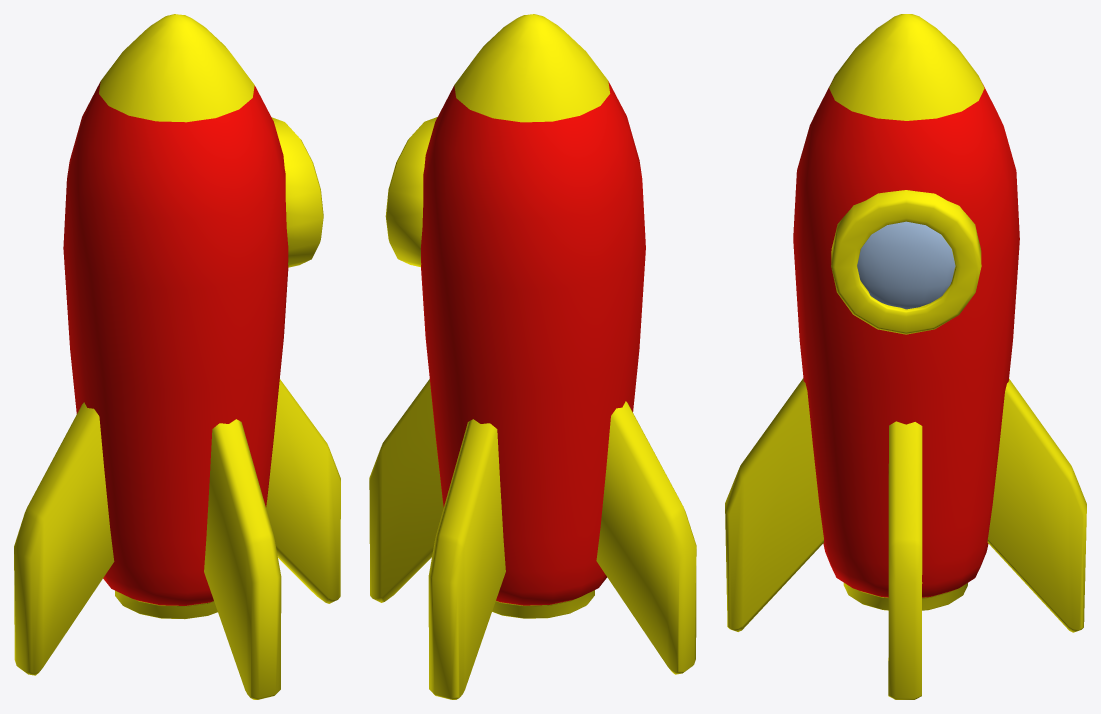
Rendered from Rocket.fbx.
3 views of the same model, side by side, from view 1: azimuth 30°, elevation 25°; view 2: azimuth 150°, elevation 25°; view 3: azimuth 270°, elevation 25° (orthographic).
Visible parts, largest first — view 1: Rocket; view 2: Rocket; view 3: Rocket.
Part boxes in pixels (x1,y1,x2,y2): Rocket: [14, 14, 340, 699]; Rocket: [369, 14, 696, 699]; Rocket: [725, 14, 1086, 699].
Size of the model in its own units: 249 by 467 by 249.
